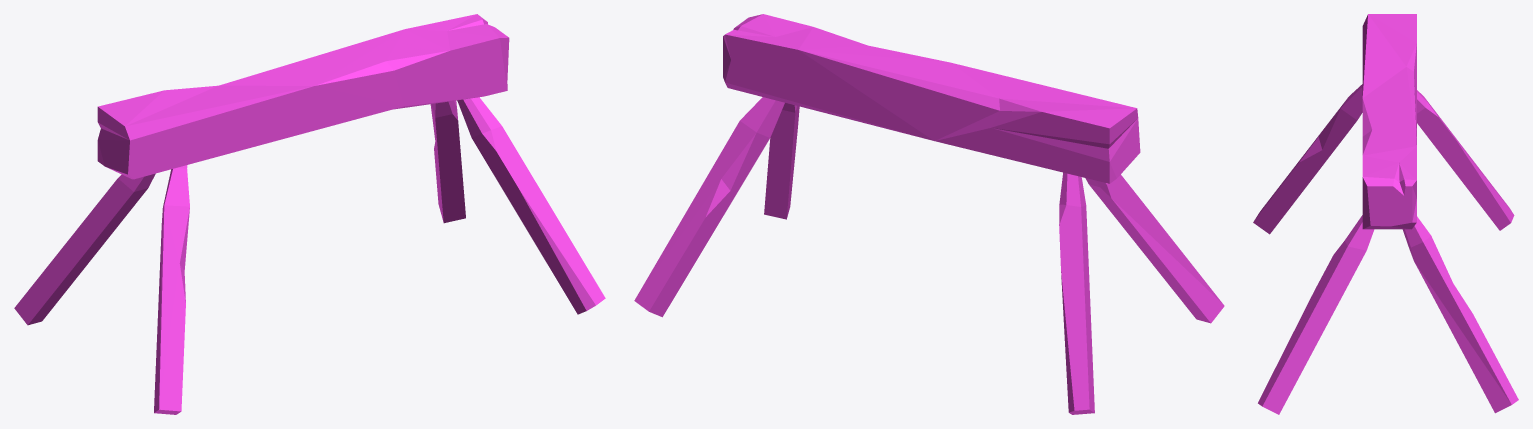
File: SM_Sawhorse_Fantasy.fbx
3 views of the same model, side by side, from view 1: azimuth 30°, elevation 25°; view 2: azimuth 150°, elevation 25°; view 3: azimuth 270°, elevation 25° (orthographic). The views are drawn at different scales.
Parts seen in each view (by area): view 1: SM_Sawhorse_Fantasy; view 2: SM_Sawhorse_Fantasy; view 3: SM_Sawhorse_Fantasy.
Boxes of the visible parts, left/top/right/bottom form: SM_Sawhorse_Fantasy: left=14, top=14, right=605, bottom=414; SM_Sawhorse_Fantasy: left=634, top=14, right=1224, bottom=414; SM_Sawhorse_Fantasy: left=1253, top=14, right=1518, bottom=414.
Size of the model in its own units: 1.37 by 0.7206 by 0.7742.
